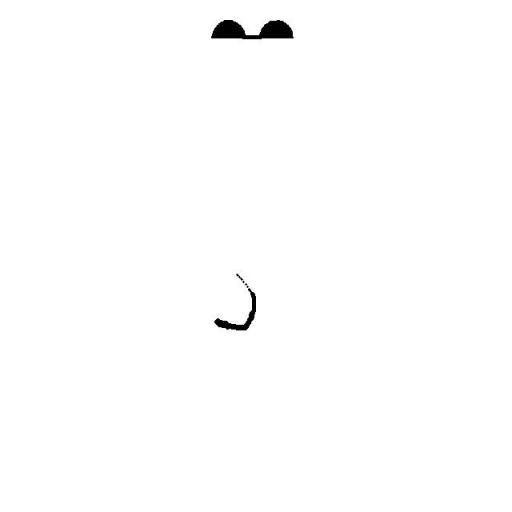copper: (206, 266, 264, 338)
short: (234, 28, 270, 46)
